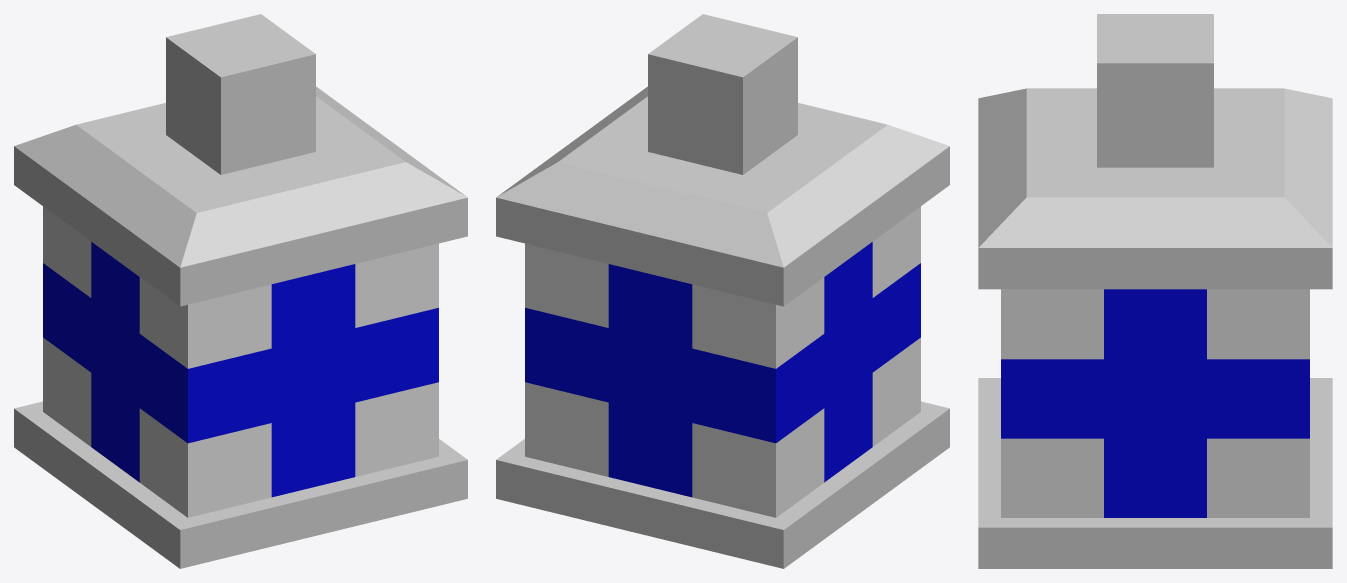
The model's file is Fruit.fbx.
3 views of the same model, side by side, from view 1: azimuth 30°, elevation 25°; view 2: azimuth 150°, elevation 25°; view 3: azimuth 270°, elevation 25° (orthographic). The views are drawn at different scales.
Visible parts, largest first — view 1: Cube; view 2: Cube; view 3: Cube.
Part boxes in pixels (x1,y1,x2,y2): Cube: [14, 14, 467, 568]; Cube: [496, 14, 949, 568]; Cube: [978, 14, 1332, 568].
Size of the model in its own units: 200 by 284 by 200.
